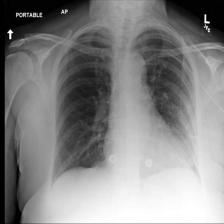normal: (49, 24, 203, 186)
